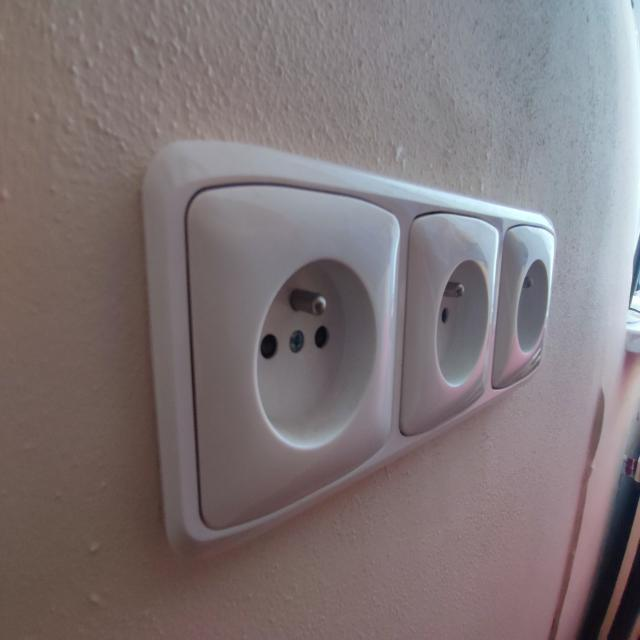house plug: (237, 242, 386, 472), (425, 253, 495, 409), (508, 253, 552, 368)
